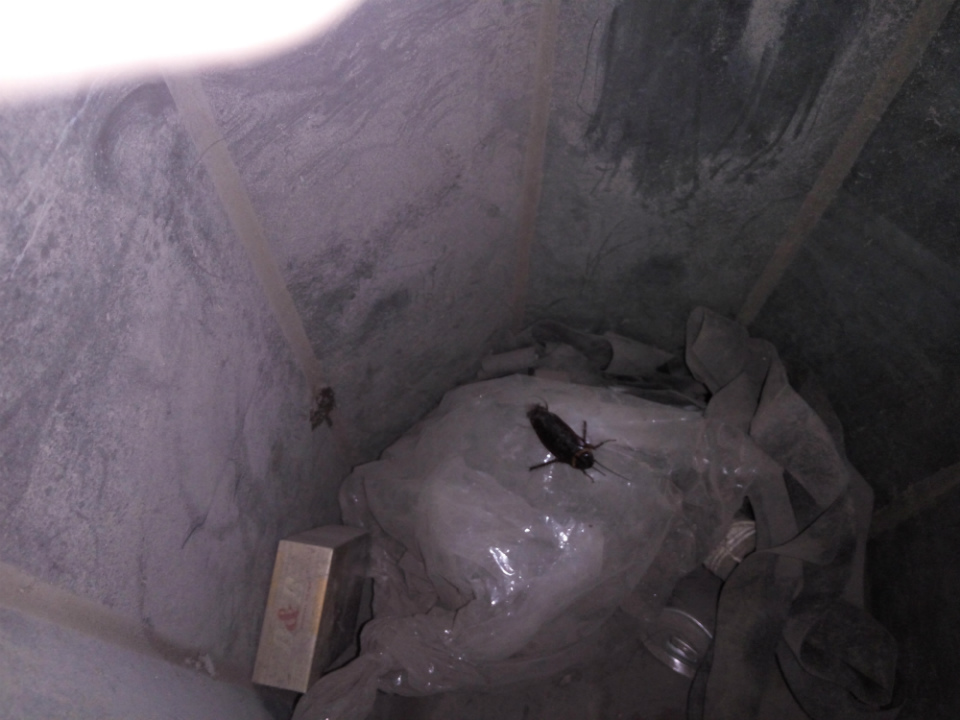cockroach: (519, 387, 615, 490)
